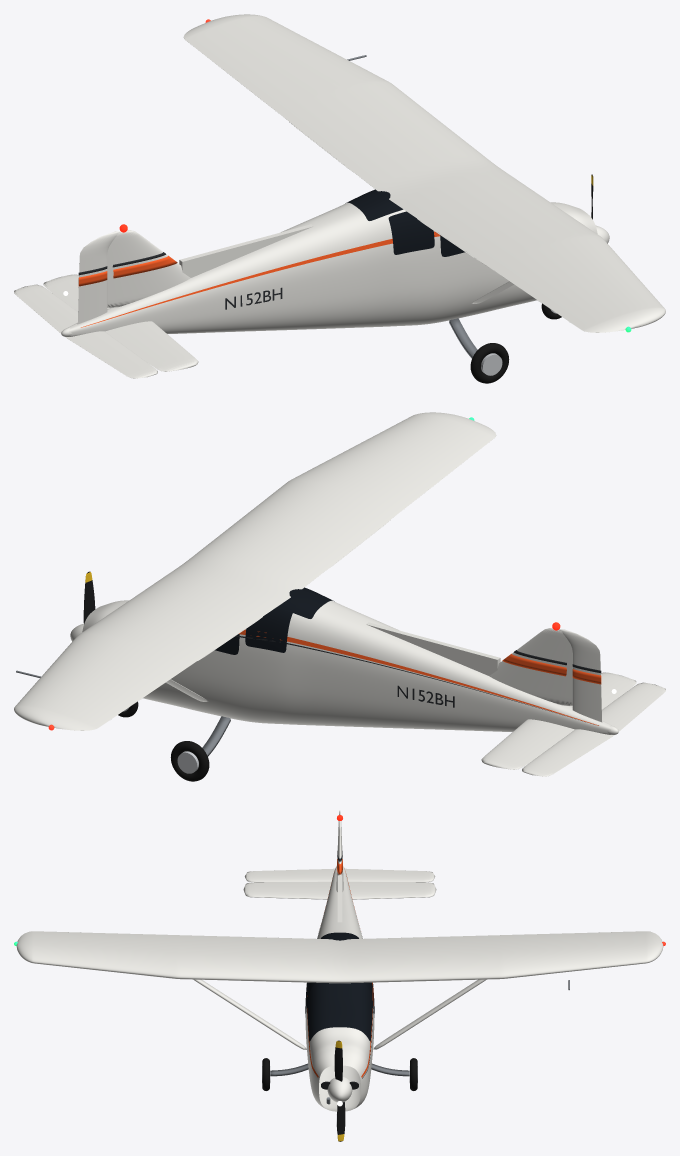
Rendered from cessna152.glb.
3 views of the same model, one above another, from view 1: azimuth 30°, elevation 25°; view 2: azimuth 150°, elevation 25°; view 3: azimuth 270°, elevation 25° (orthographic). The views are drawn at different scales.
Parts seen in each view (by area): view 1: Wing, Fuselage, Fin, ElevatorSkin, Stabilizer, RudderSkin, Dorsal, RearWindowR, Cheatline_R, OmniVision, Wheel_R_Tire, FinStripe; view 2: Wing, Fuselage, Fin, ElevatorSkin, Stabilizer, RudderSkin, Dorsal, RearWindowL, Cheatline_L, OmniVision, Wheel_L_Tire, FinStripe; view 3: Wing, Fuselage, Windshield, Stabilizer, ElevatorSkin, Strut_L, Strut_R, Spinner.
Part boxes in pixels (bbox=[...]): Wing: bbox=[183, 14, 665, 332]; Fuselage: bbox=[67, 202, 597, 336]; Fin: bbox=[107, 230, 190, 307]; ElevatorSkin: bbox=[14, 284, 157, 378]; Stabilizer: bbox=[43, 274, 198, 371]; RudderSkin: bbox=[77, 231, 120, 324]; Dorsal: bbox=[179, 224, 313, 277]; RearWindowR: bbox=[388, 211, 434, 254]; Cheatline_R: bbox=[81, 231, 439, 327]; OmniVision: bbox=[345, 189, 403, 220]; Wheel_R_Tire: bbox=[470, 343, 509, 383]; FinStripe: bbox=[113, 255, 177, 278]; Wing: bbox=[14, 412, 496, 730]; Fuselage: bbox=[82, 600, 612, 734]; Fin: bbox=[489, 628, 572, 705]; ElevatorSkin: bbox=[522, 682, 665, 776]; Stabilizer: bbox=[481, 672, 636, 769]; RudderSkin: bbox=[559, 629, 602, 722]; Dorsal: bbox=[366, 622, 500, 675]; RearWindowL: bbox=[245, 601, 295, 652]; Cheatline_L: bbox=[239, 629, 598, 725]; OmniVision: bbox=[276, 587, 334, 618]; Wheel_L_Tire: bbox=[170, 741, 209, 781]; FinStripe: bbox=[502, 653, 566, 676]; Wing: bbox=[16, 931, 663, 983]; Fuselage: bbox=[305, 866, 374, 1111]; Windshield: bbox=[307, 983, 372, 1041]; Stabilizer: bbox=[243, 881, 436, 899]; ElevatorSkin: bbox=[244, 868, 435, 882]; Strut_L: bbox=[373, 979, 486, 1049]; Strut_R: bbox=[193, 979, 306, 1049]; Spinner: bbox=[327, 1077, 352, 1102].
Size of the model in its own units: 7.67 by 2.68 by 10.24.
Materials: 6 (6 with a texture image).
